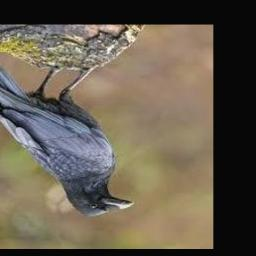Crow: (0, 55, 134, 217)
